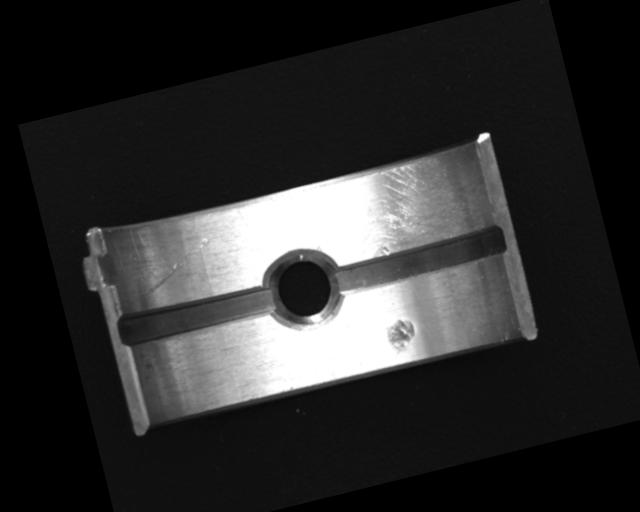bruise: (384, 315, 420, 357)
gap: (325, 222, 508, 299), (116, 281, 276, 351)
hole: (258, 240, 347, 335)
nick: (134, 234, 221, 297)
scratch: (314, 142, 487, 268)
